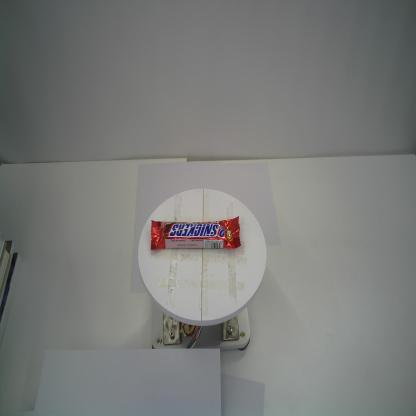Chocolate: (148, 214, 242, 251)
